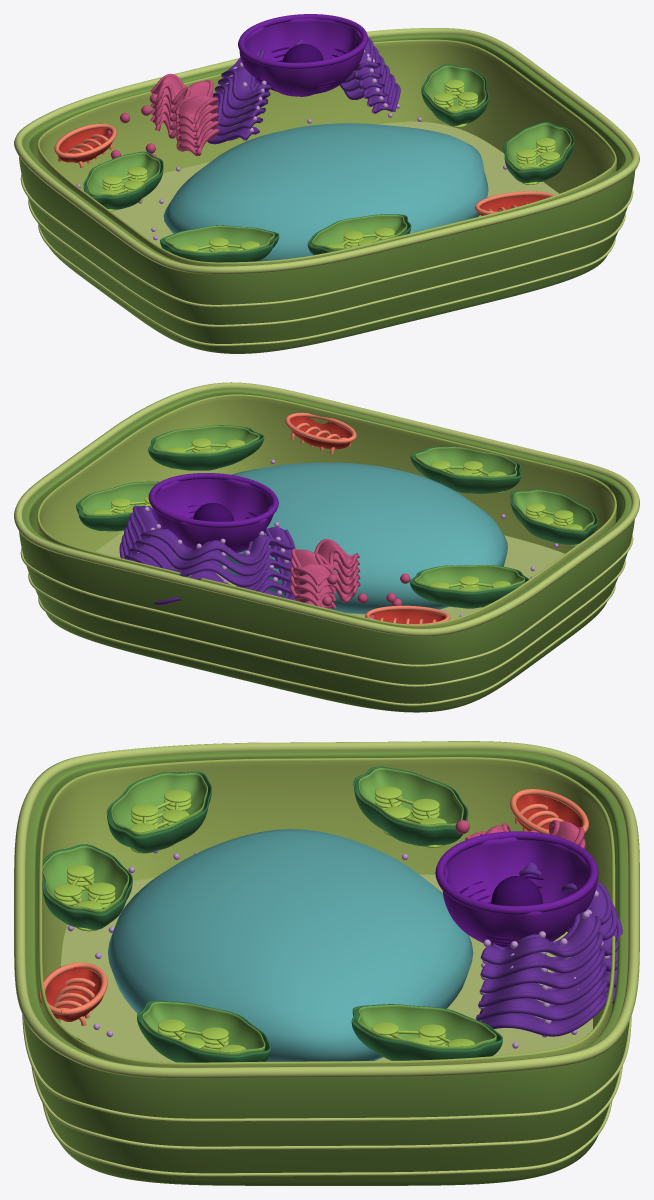
The model's file is plant-cell.glb.
3 renders of one model, top to bottom at view 1: azimuth 30°, elevation 25°; view 2: azimuth 150°, elevation 25°; view 3: azimuth 270°, elevation 25°, orthographic. The views are drawn at different scales.
Visible parts, largest first — view 1: wall, vacuole, membrane, chloroplast, nucleus, er, cytoplasm, golgi, mitochondria, ribosomes, nucleolus; view 2: wall, membrane, vacuole, chloroplast, er, nucleus, golgi, mitochondria, cytoplasm, ribosomes, nucleolus; view 3: wall, vacuole, membrane, chloroplast, er, nucleus, cytoplasm, mitochondria, nucleolus, golgi, ribosomes.
Part boxes in pixels (x1,y1,x2,y2): wall: (14, 28, 639, 353); vacuole: (163, 123, 488, 261); membrane: (37, 39, 616, 266); chloroplast: (83, 64, 574, 262); nucleus: (238, 14, 368, 96); er: (207, 37, 400, 144); cytoplasm: (111, 121, 558, 247); golgi: (106, 73, 219, 158); mitochondria: (54, 123, 554, 215); ribosomes: (76, 49, 507, 240); nucleolus: (282, 44, 323, 62); wall: (14, 382, 639, 712); membrane: (37, 394, 616, 628); vacuole: (217, 462, 507, 614); chloroplast: (76, 425, 598, 608); er: (119, 505, 295, 605); nucleus: (148, 473, 278, 552); golgi: (289, 539, 410, 618); mitochondria: (285, 412, 450, 624); cytoplasm: (95, 531, 564, 619); ribosomes: (130, 459, 575, 616); nucleolus: (193, 503, 233, 521); wall: (14, 741, 639, 1185); vacuole: (108, 829, 473, 1061); membrane: (38, 757, 615, 1067); chloroplast: (38, 766, 502, 1062); er: (476, 862, 622, 1036); nucleus: (435, 831, 598, 947); cytoplasm: (60, 874, 592, 1062); mitochondria: (38, 789, 588, 1025); nucleolus: (491, 876, 542, 905); golgi: (455, 820, 585, 848); ribosomes: (67, 850, 609, 1048).
Size of the model in its own units: 5.99 by 1.7 by 4.81.
